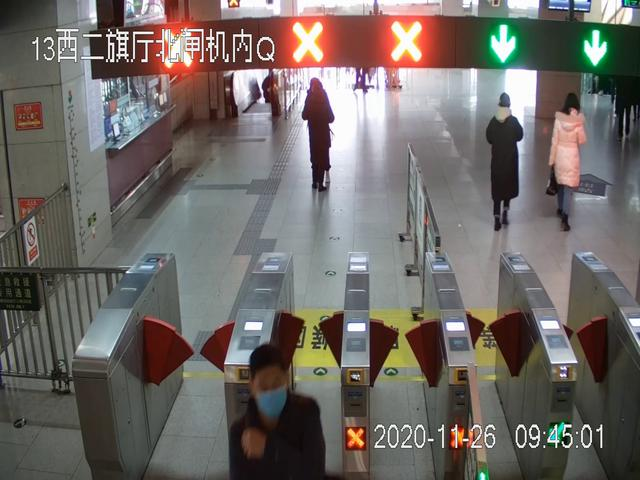person: (229, 344, 328, 480), (544, 94, 590, 230), (485, 92, 524, 231), (301, 76, 339, 195)
